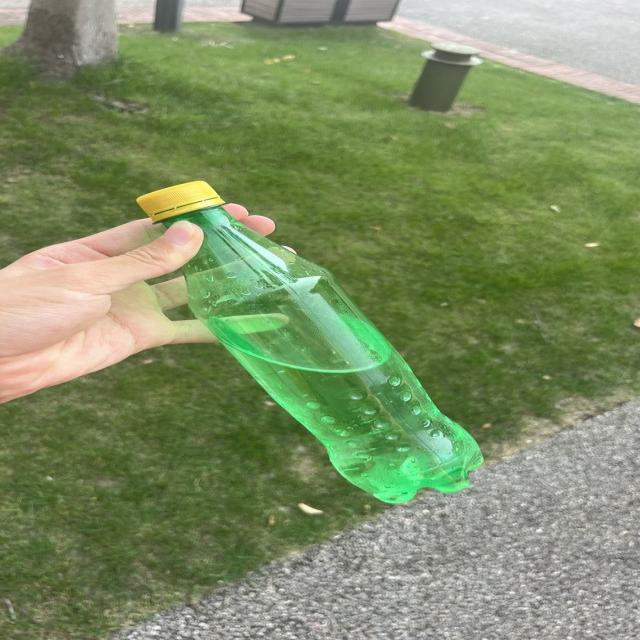medium: (138, 181, 482, 503)
